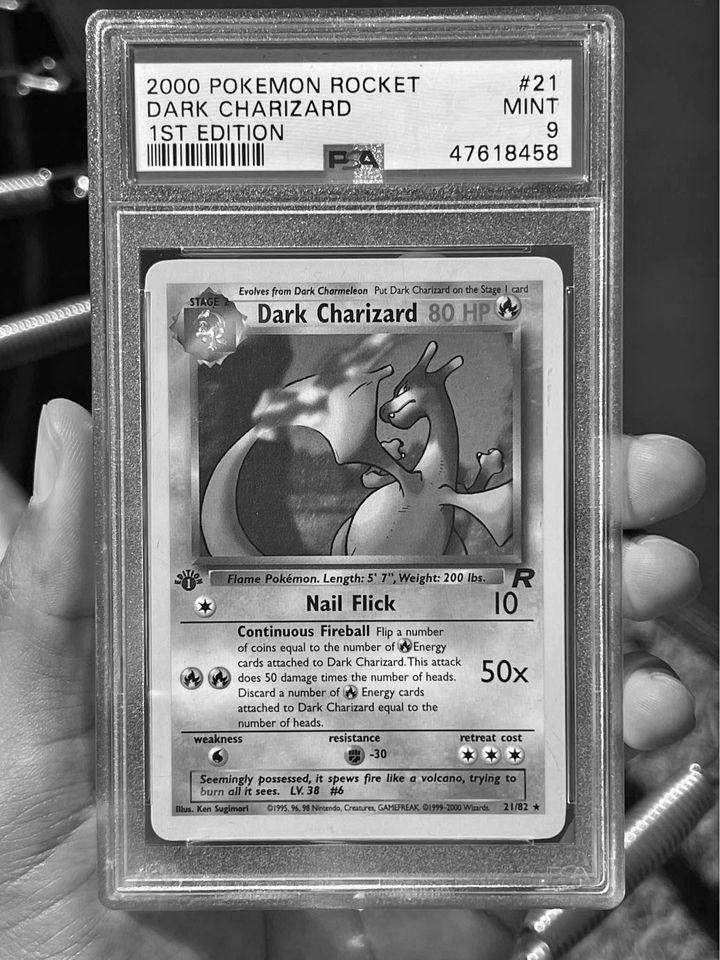card: (142, 253, 568, 844)
